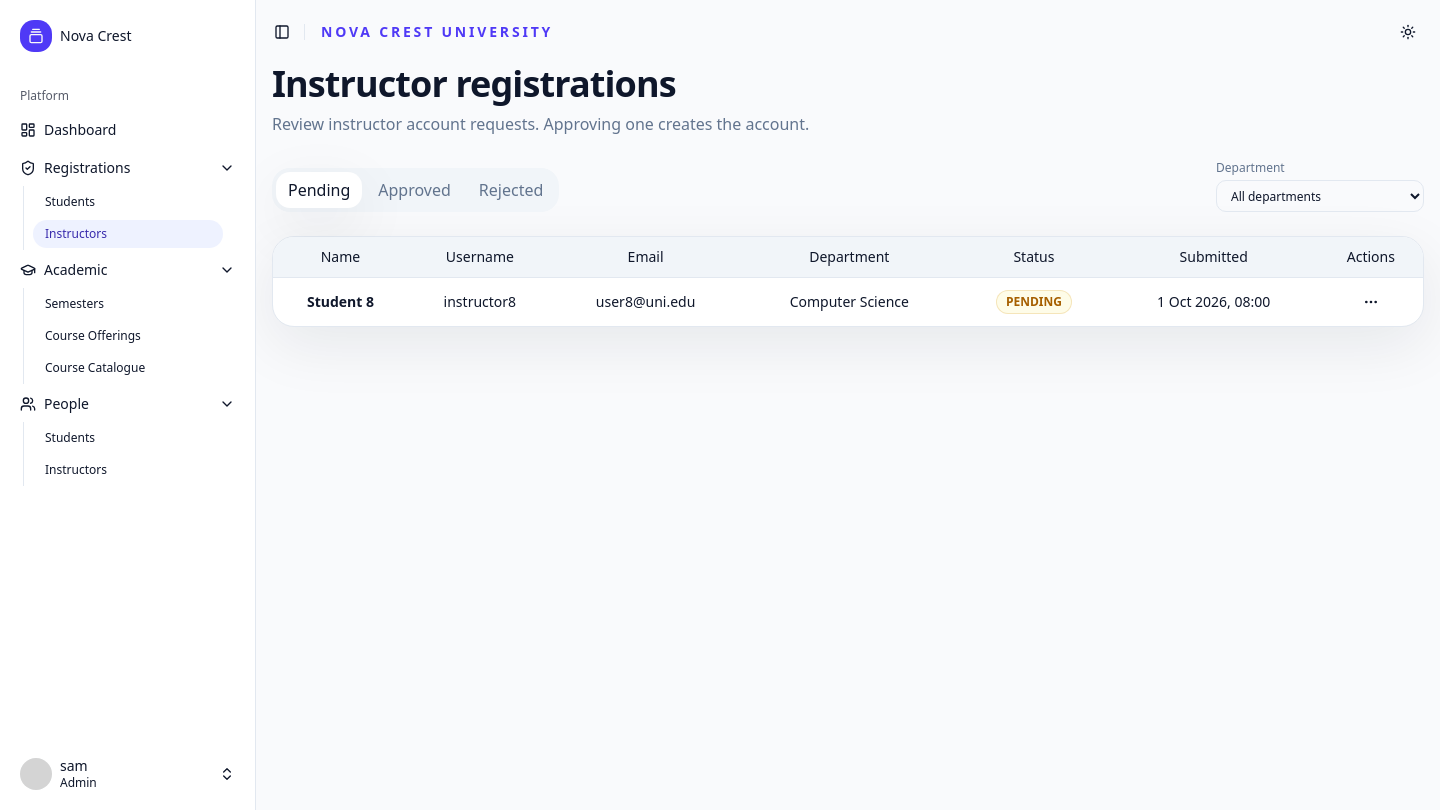
Scenario: RegistrationsView › shows the server message when an action is refused
Click the button without text in the row of "Student 8". click: (1371, 302)
box: [1355,286,1387,318]
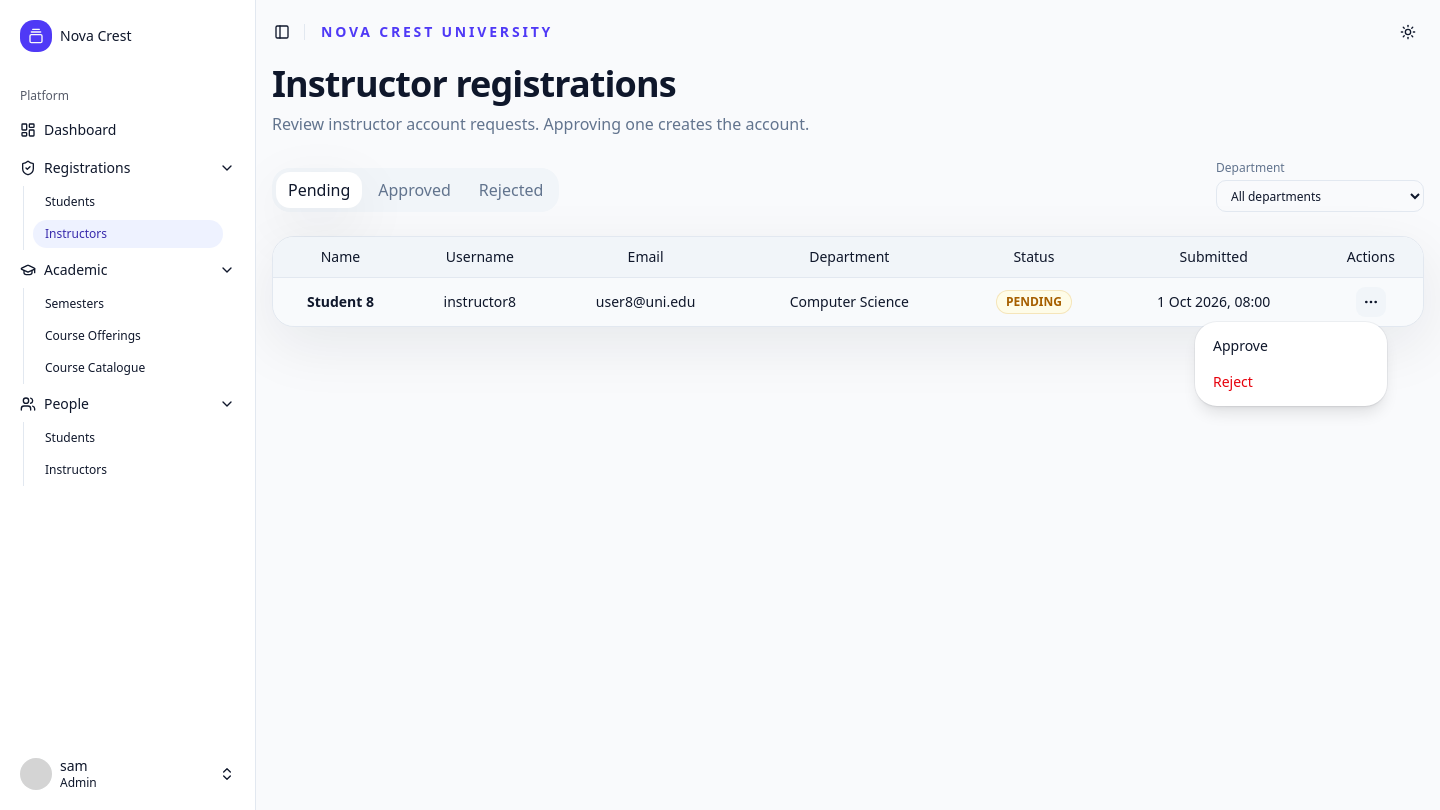
Click the menu item "Reject". click: (1233, 382)
box: [1213,372,1253,391]
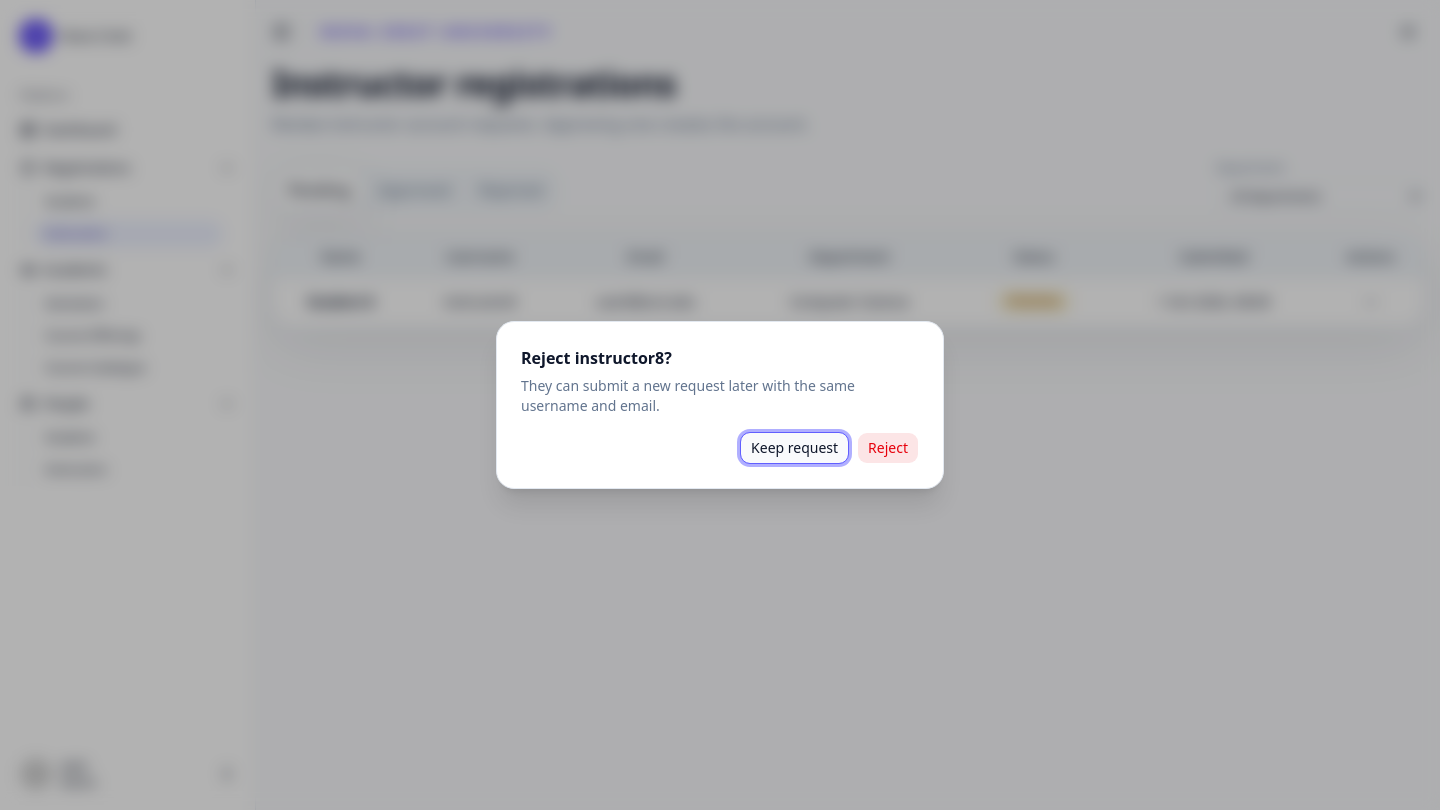
Click the button "Reject". click: (888, 448)
box: [857,432,919,464]
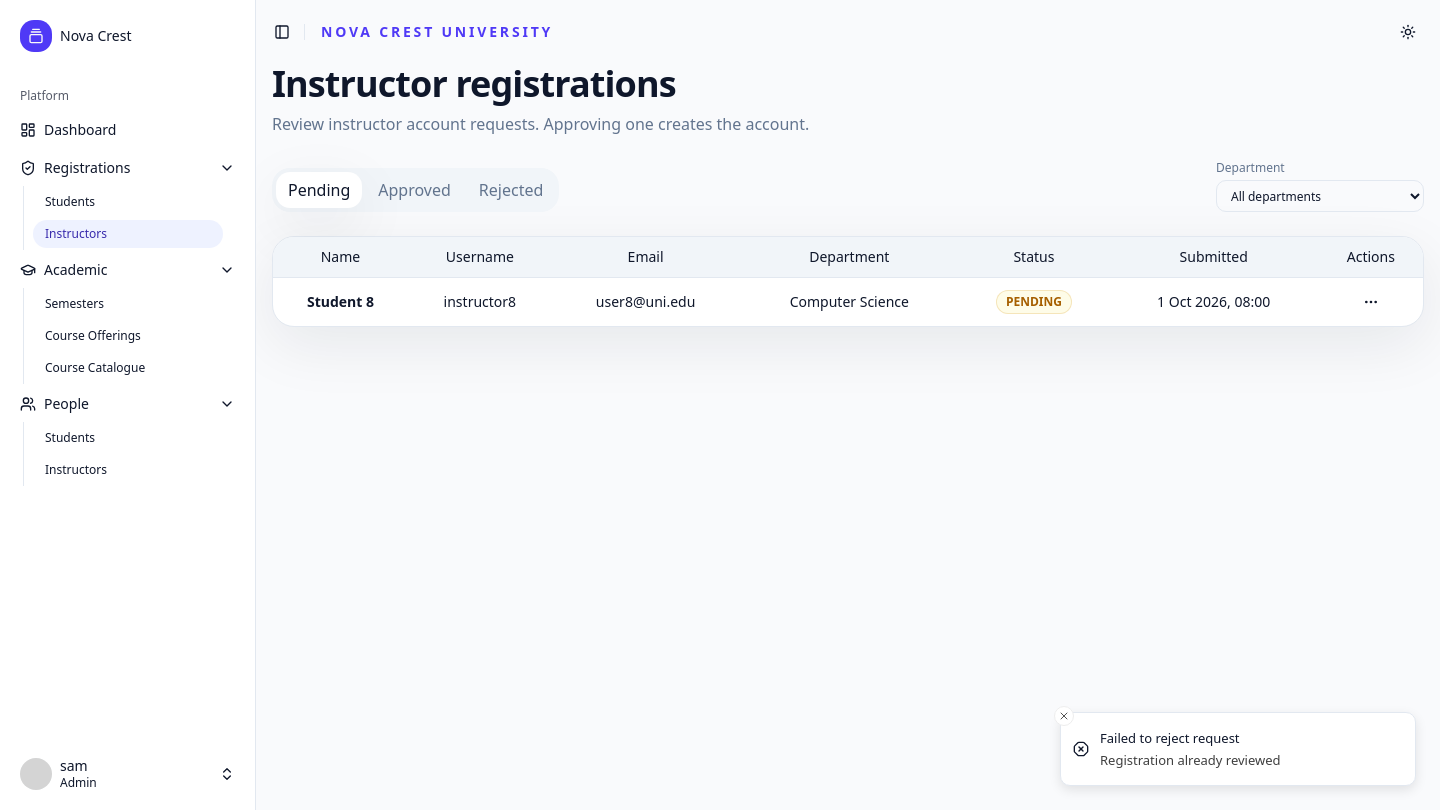
Expected: the text "Failed to reject request" is shown, [1100,729,1240,747]
Expected: the text "Registration already reviewed" is shown, [1100,751,1281,769]
